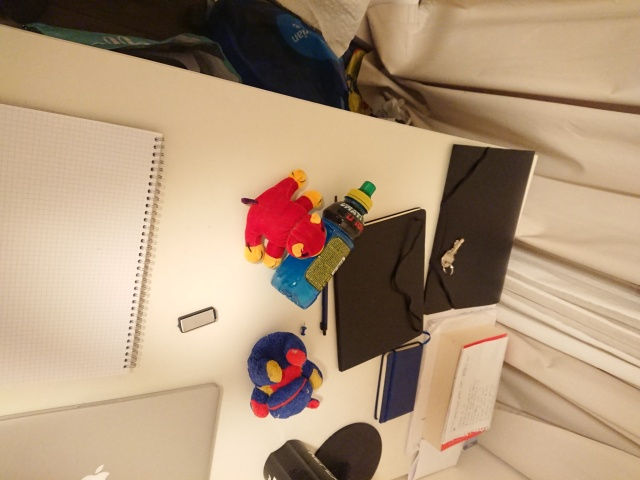Vindi Iso Sport Forest Strawberries 500mL: (269, 179, 377, 310)
